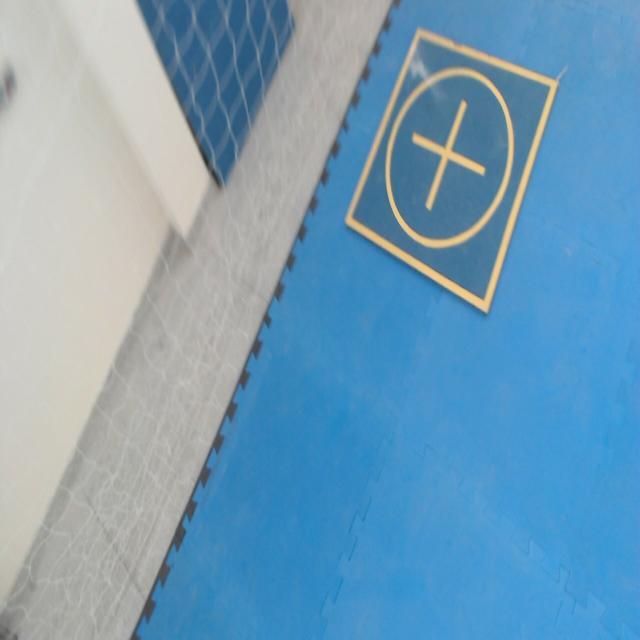base_pouso: (343, 26, 560, 316)
